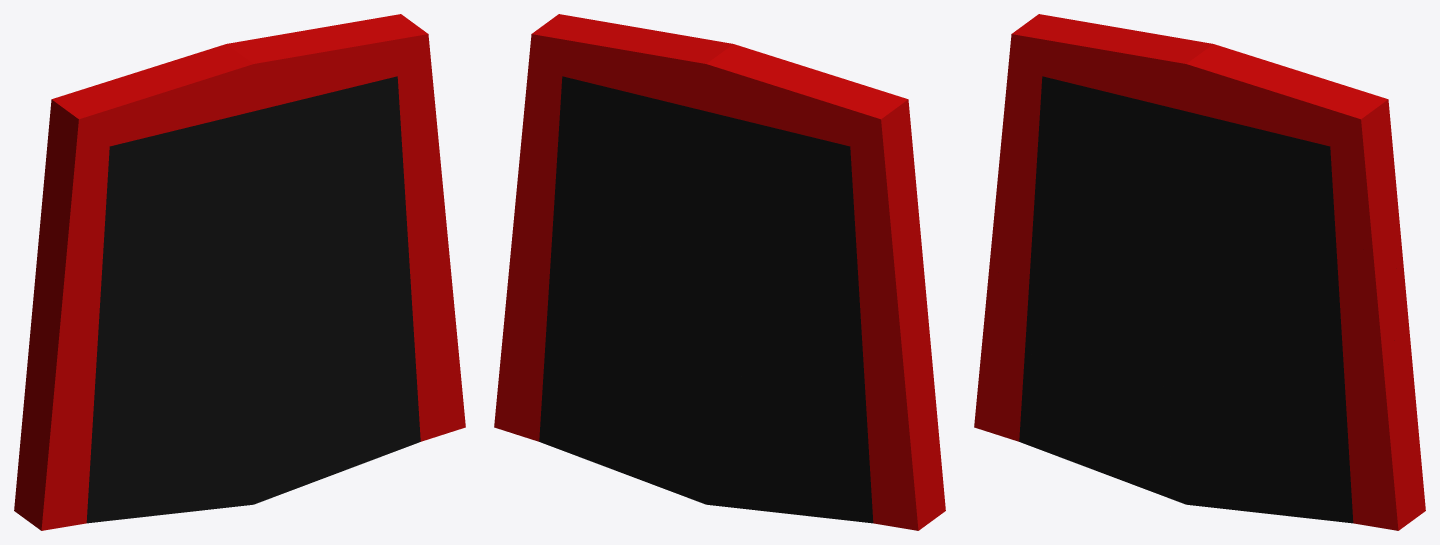
The model's file is obstacleBreak.fbx.
3 renders of one model, left to right at view 1: azimuth 30°, elevation 25°; view 2: azimuth 150°, elevation 25°; view 3: azimuth 330°, elevation 25°, orthographic.
Visible parts, largest first — view 1: obstacleFractured_058, obstacleFractured_059, obstacleFractured_062, obstacleFractured_078, obstacleFractured_079, obstacleFractured_077, obstacleFractured_060, obstacleFractured_073, obstacleFractured_075, obstacleFractured_072, obstacleFractured_076, obstacleFractured_043 (+6 smaller); view 2: obstacleFractured_060, obstacleFractured_058, obstacleFractured_078, obstacleFractured_077, obstacleFractured_062, obstacleFractured_059, obstacleFractured_075, obstacleFractured_061, obstacleFractured_073, obstacleFractured_076, obstacleFractured_074, obstacleFractured_068 (+5 smaller); view 3: obstacleFractured_058, obstacleFractured_059, obstacleFractured_062, obstacleFractured_079, obstacleFractured_077, obstacleFractured_078, obstacleFractured_075, obstacleFractured_076, obstacleFractured_073, obstacleFractured_074, obstacleFractured_072, obstacleFractured_060 (+5 smaller).
Boxes of the visible parts, x1,y1,x2,y2 form: obstacleFractured_058: (66,14,440,265); obstacleFractured_059: (24,175,444,435); obstacleFractured_062: (14,443,347,530); obstacleFractured_078: (45,58,181,276); obstacleFractured_079: (61,144,240,309); obstacleFractured_077: (236,267,375,468); obstacleFractured_060: (24,159,441,393); obstacleFractured_073: (215,282,324,466); obstacleFractured_075: (327,208,451,345); obstacleFractured_072: (109,367,238,463); obstacleFractured_076: (349,324,463,425); obstacleFractured_043: (292,402,465,468); obstacleFractured_060: (517,74,931,413); obstacleFractured_058: (527,14,910,151); obstacleFractured_078: (722,76,922,260); obstacleFractured_077: (597,243,737,476); obstacleFractured_062: (563,439,945,530); obstacleFractured_059: (689,261,933,443); obstacleFractured_075: (512,186,637,333); obstacleFractured_061: (733,425,939,503); obstacleFractured_073: (644,274,754,468); obstacleFractured_076: (496,329,614,435); obstacleFractured_074: (499,237,591,377); obstacleFractured_068: (685,318,836,407); obstacleFractured_058: (1009,24,1392,262); obstacleFractured_059: (986,250,1387,365); obstacleFractured_062: (974,366,1280,515); obstacleFractured_079: (996,108,1173,266); obstacleFractured_077: (1169,303,1307,479); obstacleFractured_078: (997,14,1168,182); obstacleFractured_075: (1259,260,1407,409); obstacleFractured_076: (1282,383,1423,503); obstacleFractured_073: (1148,316,1256,457); obstacleFractured_074: (1317,312,1420,470); obstacleFractured_072: (1041,345,1170,446); obstacleFractured_060: (988,143,1402,281).
Size of the model in its own units: 0.7128 by 0.7073 by 0.0797.
